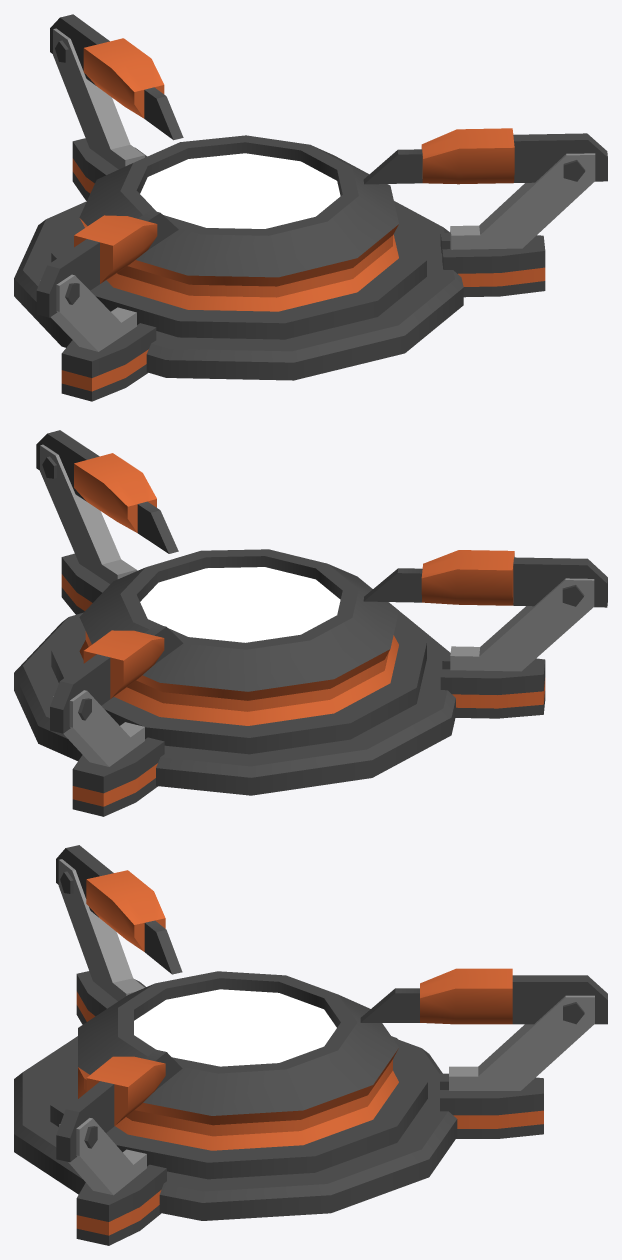
The model's file is teleporter.glb.
3 renders of one model, top to bottom at view 1: azimuth 30°, elevation 25°; view 2: azimuth 150°, elevation 25°; view 3: azimuth 270°, elevation 25°, orthographic.
Parts seen in each view (by area): view 1: Cylinder; view 2: Cylinder; view 3: Cylinder.
Boxes of the visible parts, box(x1,y1,x2,y2) form: Cylinder: box(14, 14, 607, 401); Cylinder: box(14, 430, 607, 816); Cylinder: box(14, 845, 607, 1245).
Bounding box in the file's own units: 2.9 × 0.7083 × 2.58.
